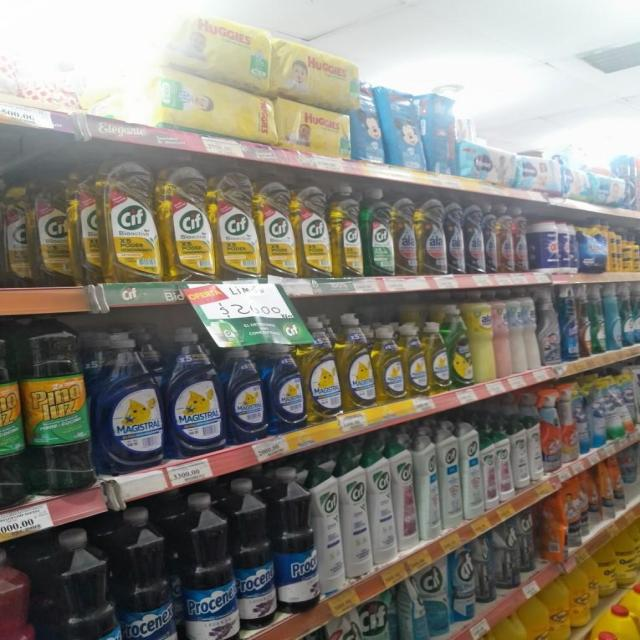ala_conc_amarillo: (418, 196, 445, 276), (393, 195, 417, 276)
ala_conc_azul: (446, 199, 464, 275), (466, 202, 484, 275), (485, 202, 497, 274)
ala_conc_rojo: (497, 204, 514, 274), (514, 206, 529, 273)
ala_crem_amarillo: (471, 292, 494, 383)
ala_crem_rosado: (494, 290, 511, 379)
cif_conc_bot_amarilla: (105, 155, 159, 284), (162, 158, 214, 282), (215, 169, 259, 280), (35, 179, 75, 287), (260, 178, 296, 279), (1, 181, 34, 290), (297, 182, 330, 279), (77, 167, 104, 285), (332, 184, 362, 279)
cif_conc_botella_verde: (363, 187, 393, 277)
magistral_con_amarillo: (304, 316, 340, 421), (340, 314, 374, 411), (376, 323, 404, 402), (427, 320, 450, 393), (405, 322, 427, 397)
magistral_con_azul: (96, 329, 164, 472), (168, 326, 224, 456), (226, 344, 266, 443), (268, 342, 304, 432)
